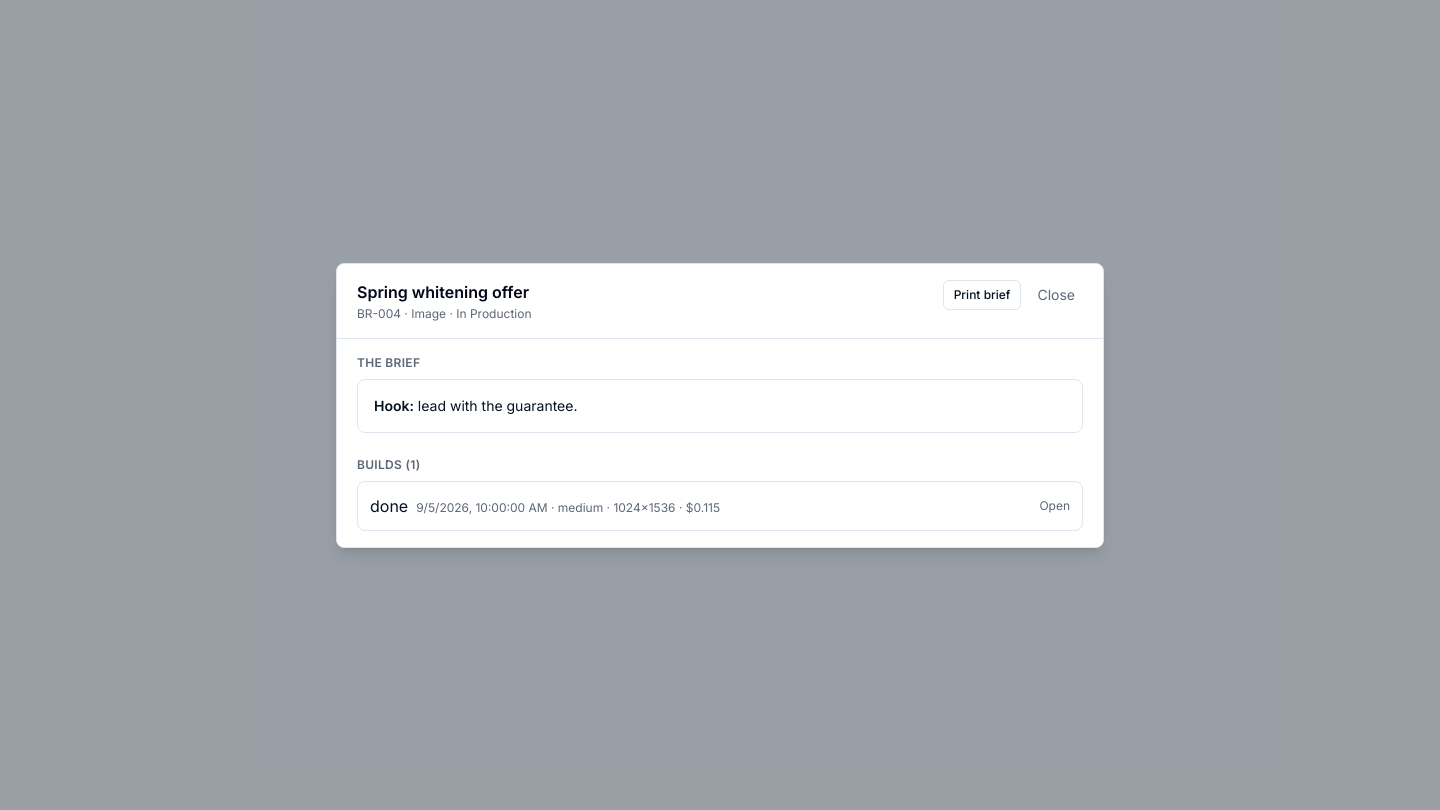
Test: BriefDetailModal — build history › keeps the concept collapsed until it is opened
This screenshot has width=1440, height=810.
Check: the heading "Builds (1)" is shown, box [357,456,420,472]
Check: the text "Straighter teeth by summer" is not shown
Step 1. Click the button "done9/5/2026, 10:00:00 AM · medium · 1024x1536 · $0.115 Open" → (720, 506), box [358,482,1082,530]
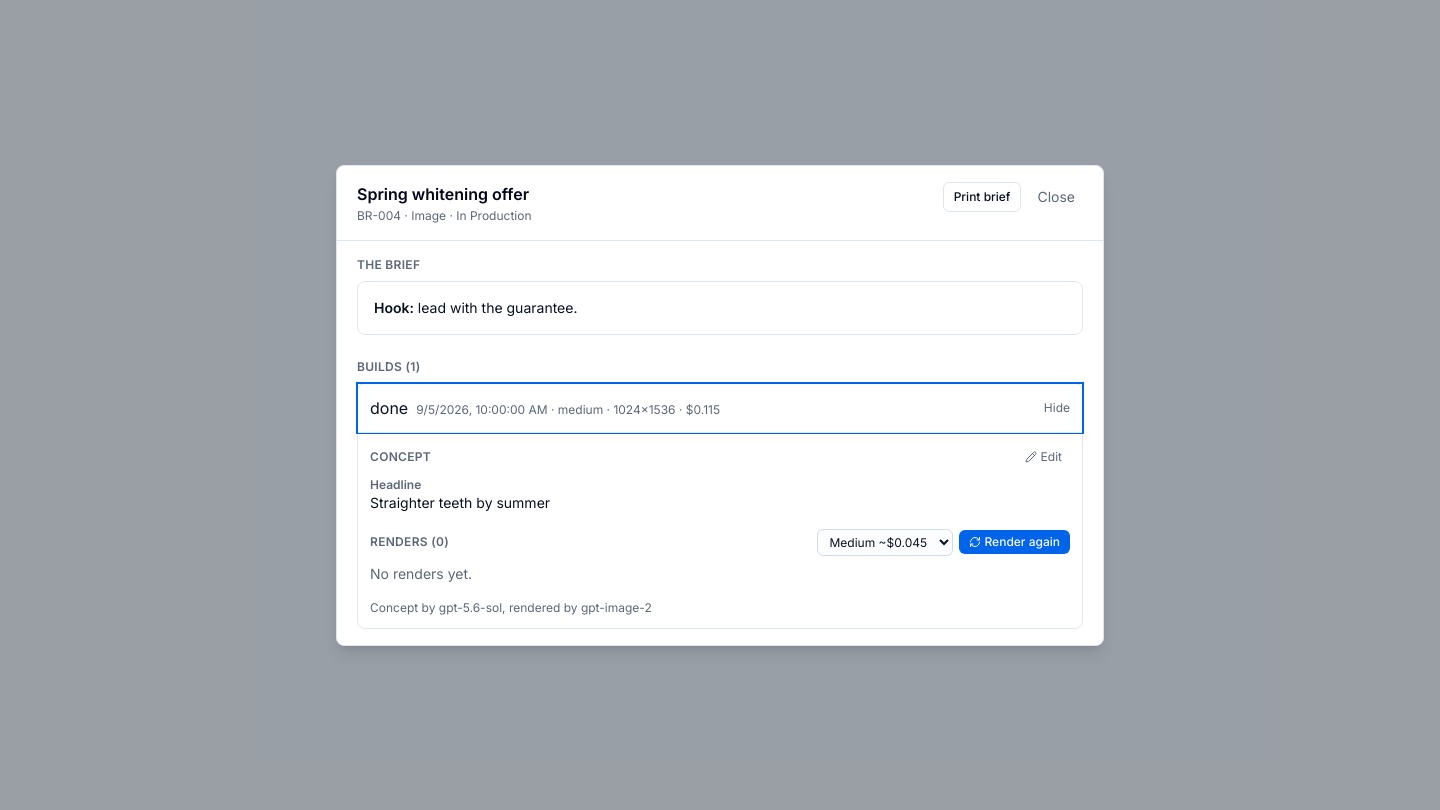
Check: the text "Straighter teeth by summer" is shown, box [370,494,550,510]
